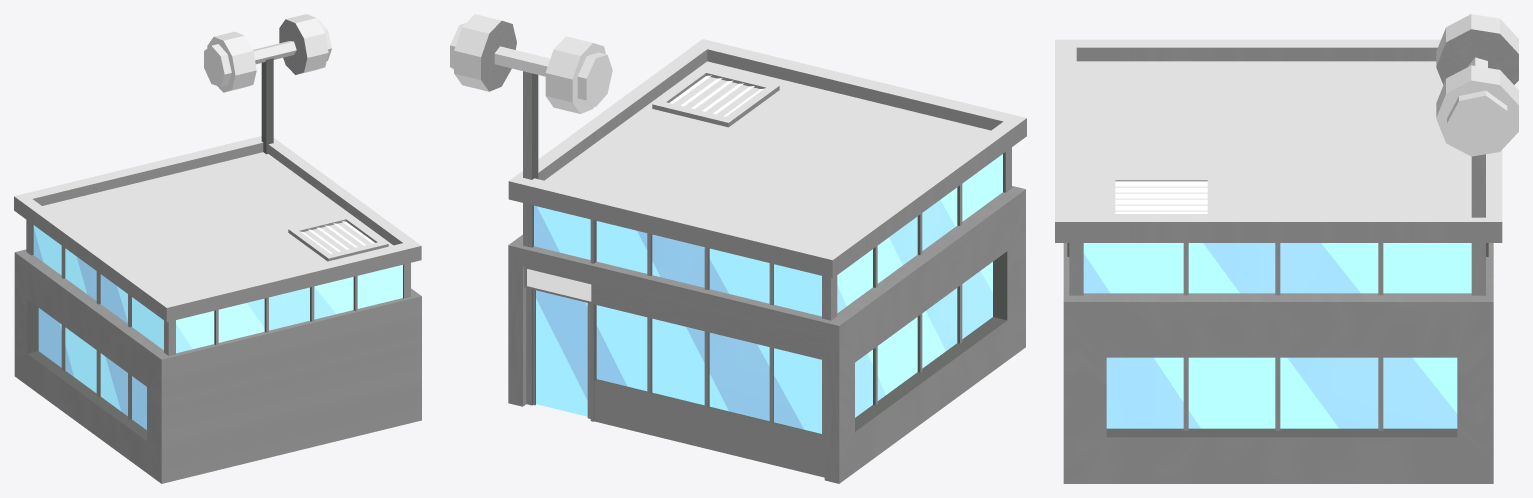
Rendered from services.003.glb.
3 renders of one model, left to right at view 1: azimuth 30°, elevation 25°; view 2: azimuth 150°, elevation 25°; view 3: azimuth 270°, elevation 25°, orthographic. The views are drawn at different scales.
Visible parts, largest first — view 1: services.003(Clone); view 2: services.003(Clone); view 3: services.003(Clone).
Part boxes in pixels (x1,y1,x2,y2): services.003(Clone): (14,14,421,483); services.003(Clone): (450,14,1026,483); services.003(Clone): (1055,14,1518,483).
Size of the model in its own units: 6.86 by 6.4 by 6.25.
1 material, 1 textured.
